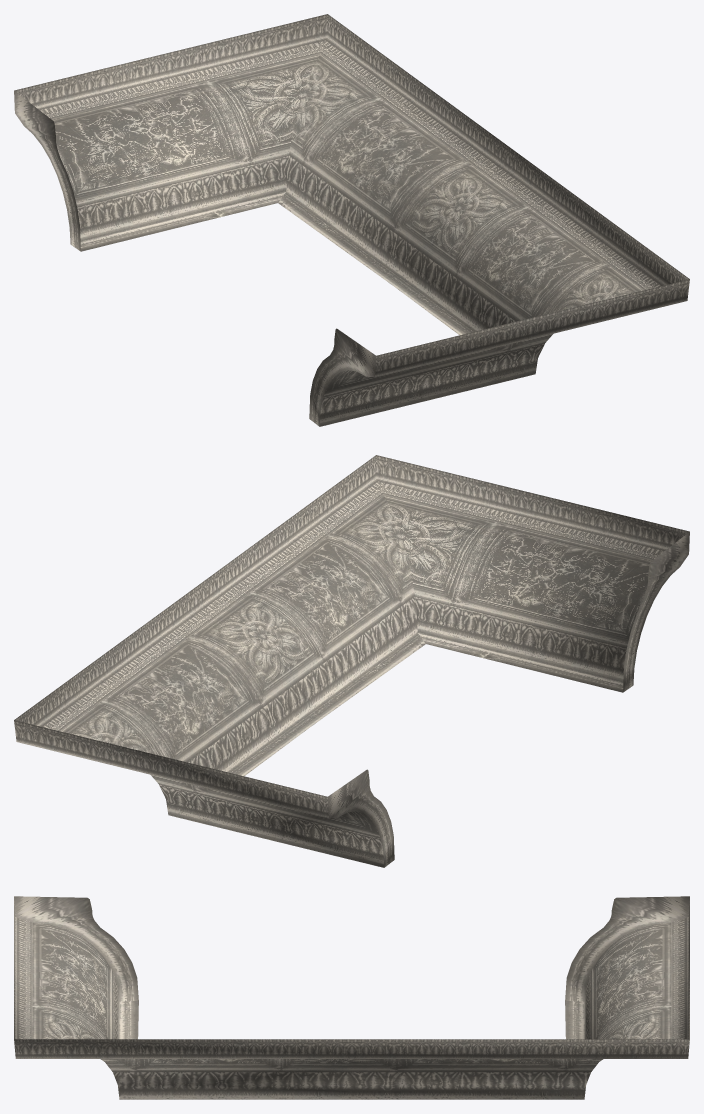
Rendered from CeilingCurvedCshape.fbx.
3 renders of one model, top to bottom at view 1: azimuth 30°, elevation 25°; view 2: azimuth 150°, elevation 25°; view 3: azimuth 270°, elevation 25°, orthographic. The views are drawn at different scales.
Visible parts, largest first — view 1: CeilingRoundButt; view 2: CeilingRoundButt; view 3: CeilingRoundButt.
Part boxes in pixels (x1,y1,x2,y2): CeilingRoundButt: [14, 14, 689, 426]; CeilingRoundButt: [14, 455, 689, 867]; CeilingRoundButt: [14, 896, 689, 1099].
Size of the model in its own units: 390 by 134 by 779.
